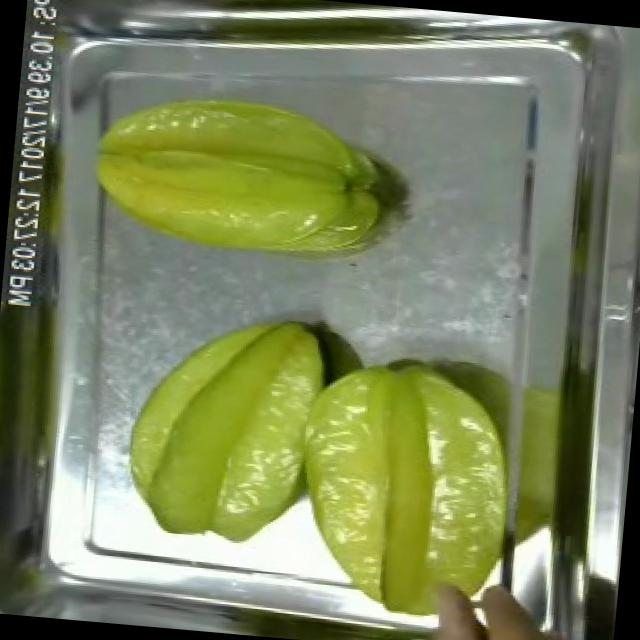fruit: (277, 336, 536, 634), (75, 71, 404, 276), (114, 294, 338, 558)
